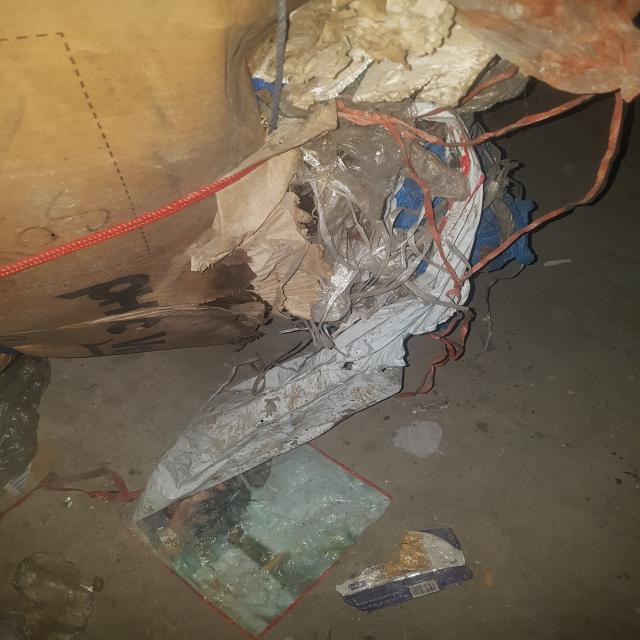electronic: (334, 526, 474, 612)
